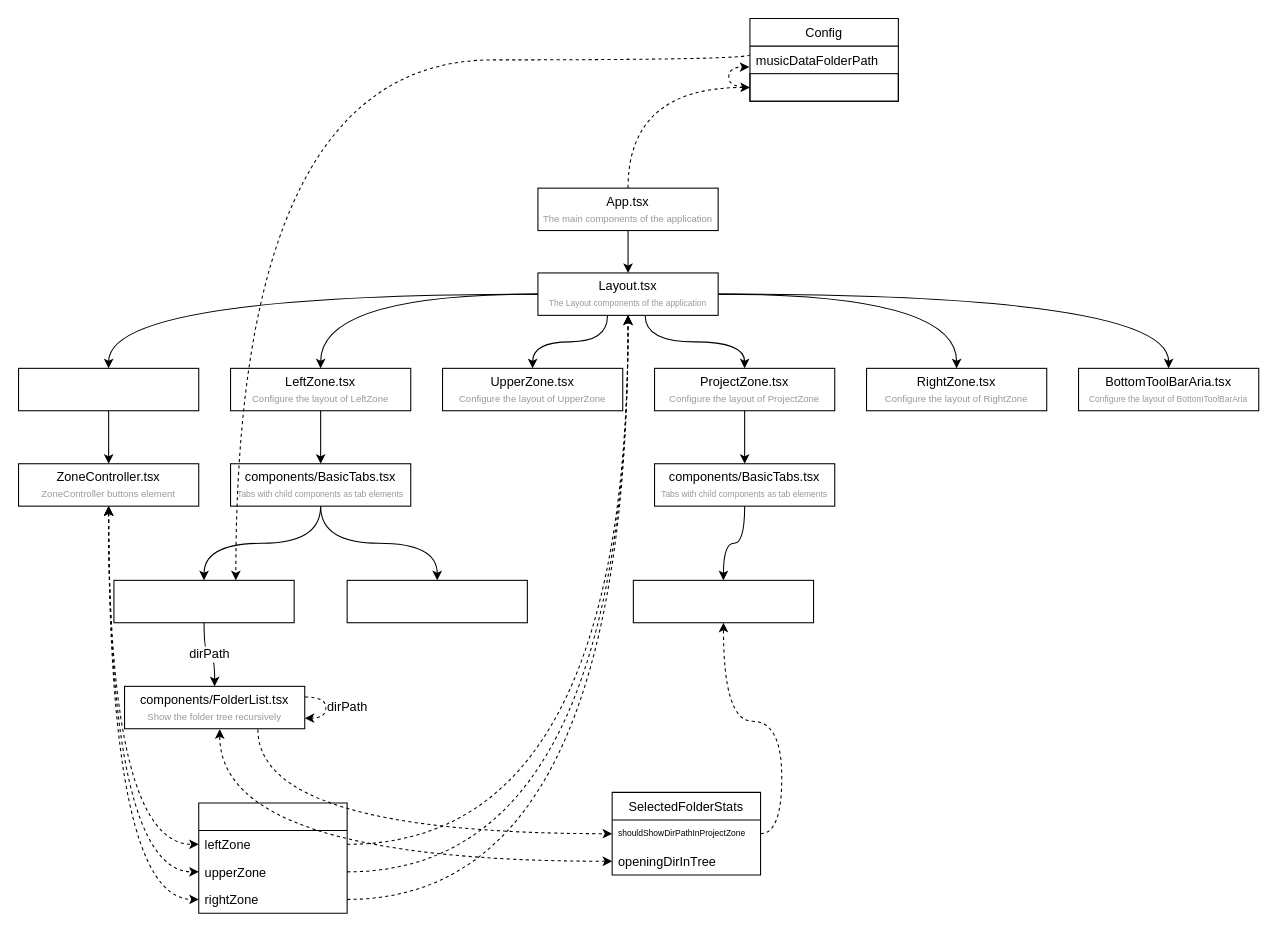
Image size: 1277x935. Some labels were removed from this diagram. The shapes that lost their labels are listed below. From the top down, each one's box as (x1, y1, x2, y2) in pixels, then its label:
(749, 73, 898, 101): fetchConfig()
(17, 367, 199, 411): TopToolBarAria.tsx Configure the layout of TopToolBarAria
(113, 579, 294, 623): Folder.tsx Folder tree view
(346, 579, 527, 623): Playlist.tsx Playlist view
(632, 579, 814, 623): Files.tsx Displays the files in the specified folder
(198, 802, 347, 913): ViewStats
